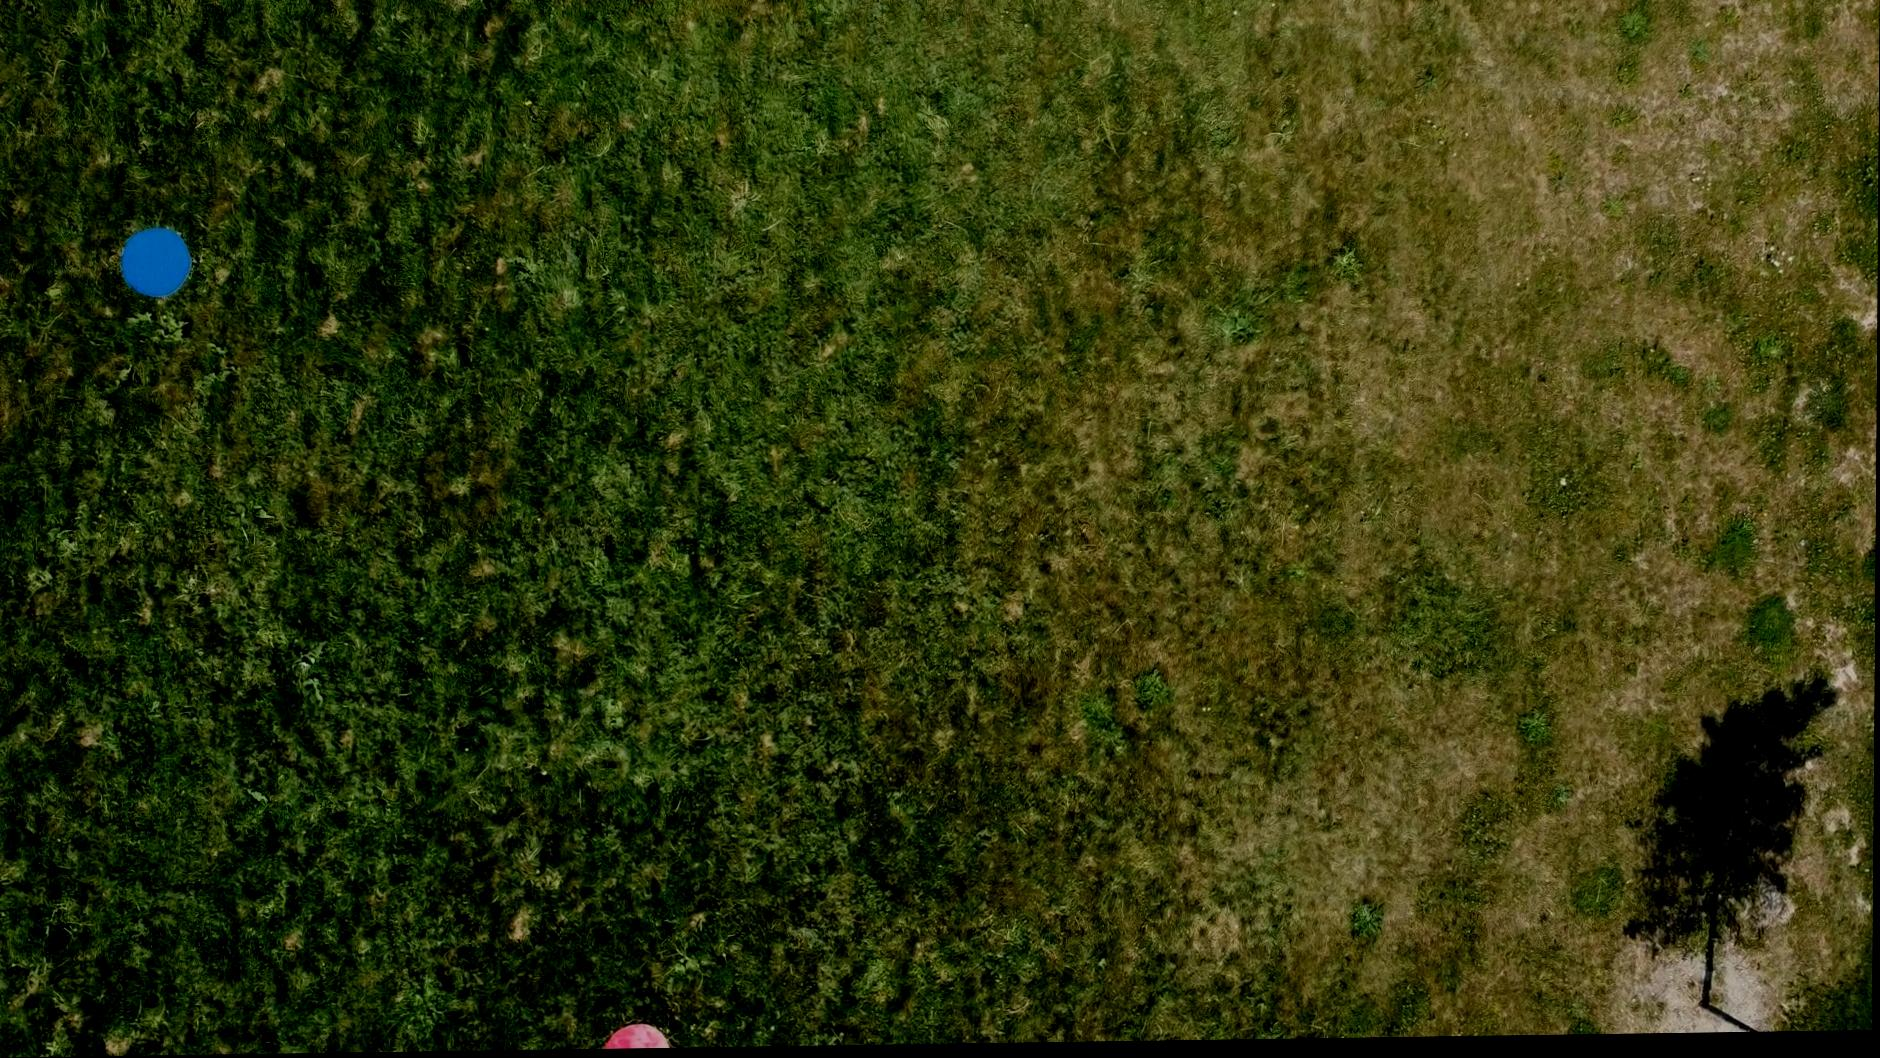Blue: (116, 226, 195, 301)
Red: (600, 1024, 675, 1052)
